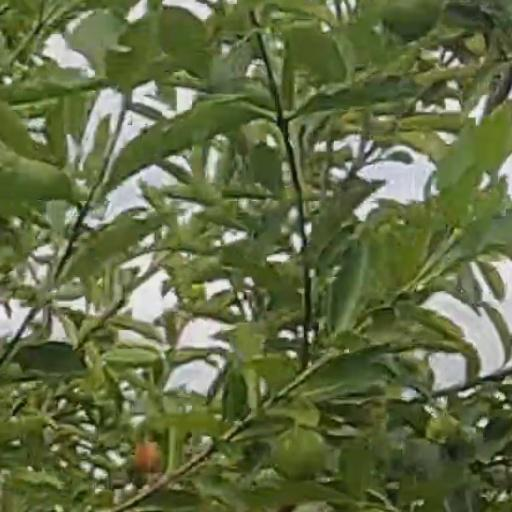acerola_verde: (276, 428, 322, 481)
